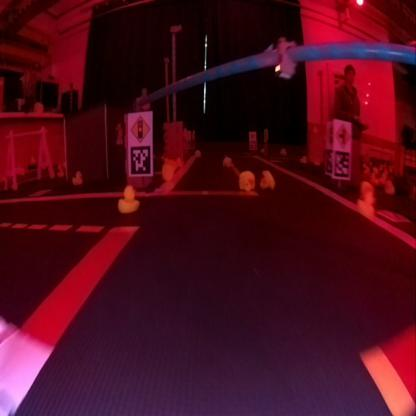Duckie: (118, 186, 138, 212), (357, 194, 374, 214), (239, 170, 254, 191), (261, 168, 272, 186), (361, 179, 373, 195)
Intersection sign: (336, 122, 350, 148)
QR code: (130, 145, 151, 173), (334, 151, 350, 176)
Signal sign: (129, 115, 151, 142)
